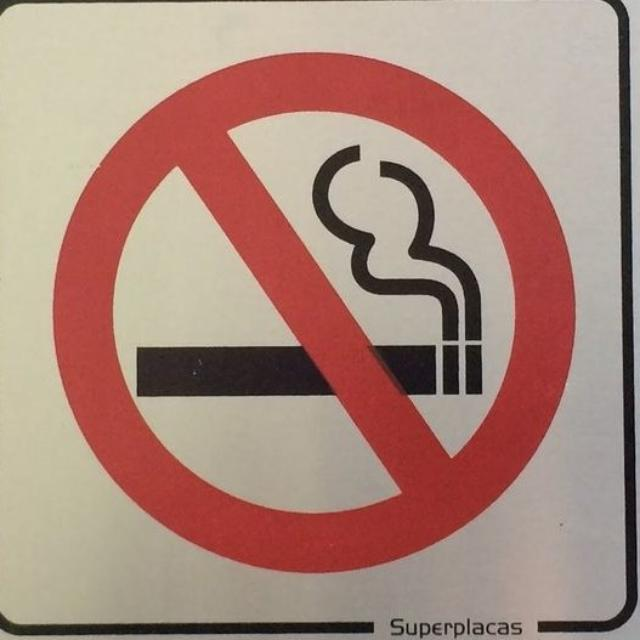cam hut thuoc: (53, 53, 572, 571)
